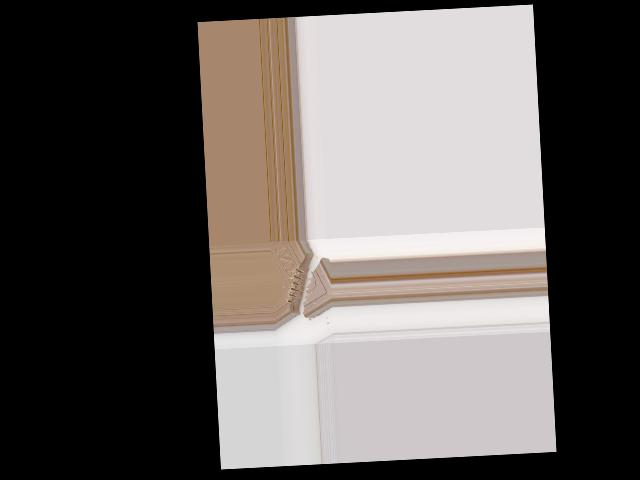chocolate: (271, 239, 334, 331)
